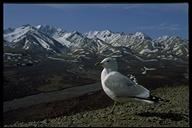bird: (93, 53, 178, 118)
mountain: (4, 19, 187, 53)
sky: (9, 5, 185, 23)
